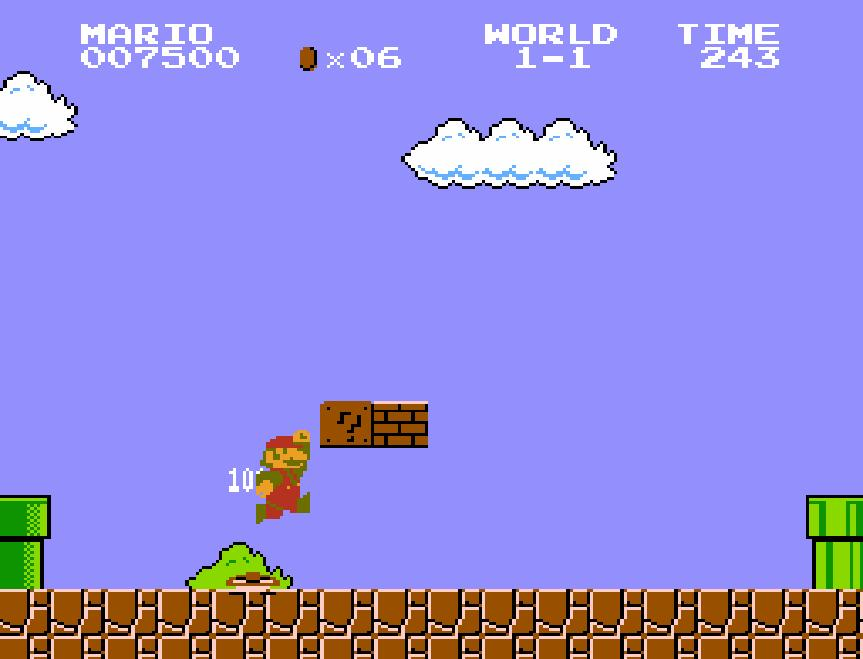big_mario: (254, 428, 312, 526)
